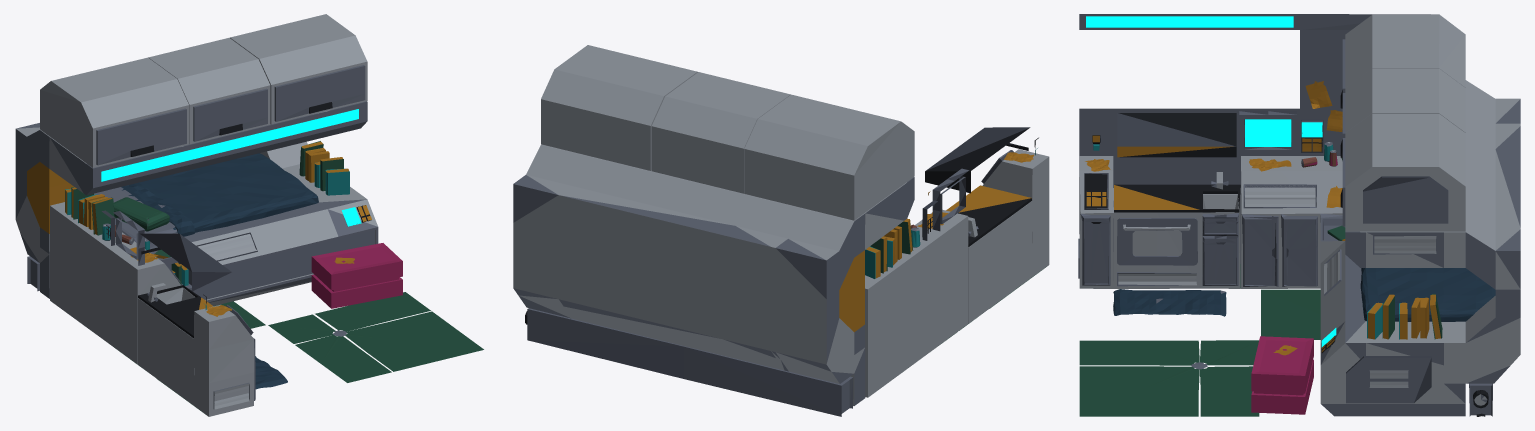
The model's file is room-props.glb.
3 renders of one model, left to right at view 1: azimuth 30°, elevation 25°; view 2: azimuth 150°, elevation 25°; view 3: azimuth 270°, elevation 25°, orthographic. The views are drawn at different scales.
Visible parts, largest first — view 1: room-capsule; view 2: room-capsule; view 3: room-capsule.
Part boxes in pixels (box(x1,y1,x2,y2)): room-capsule: box(15, 14, 483, 416); room-capsule: box(513, 45, 1049, 416); room-capsule: box(1078, 14, 1520, 416).
Bounding box in the file's own units: 3.66 × 2.75 × 4.41.
1 material, 1 textured.
